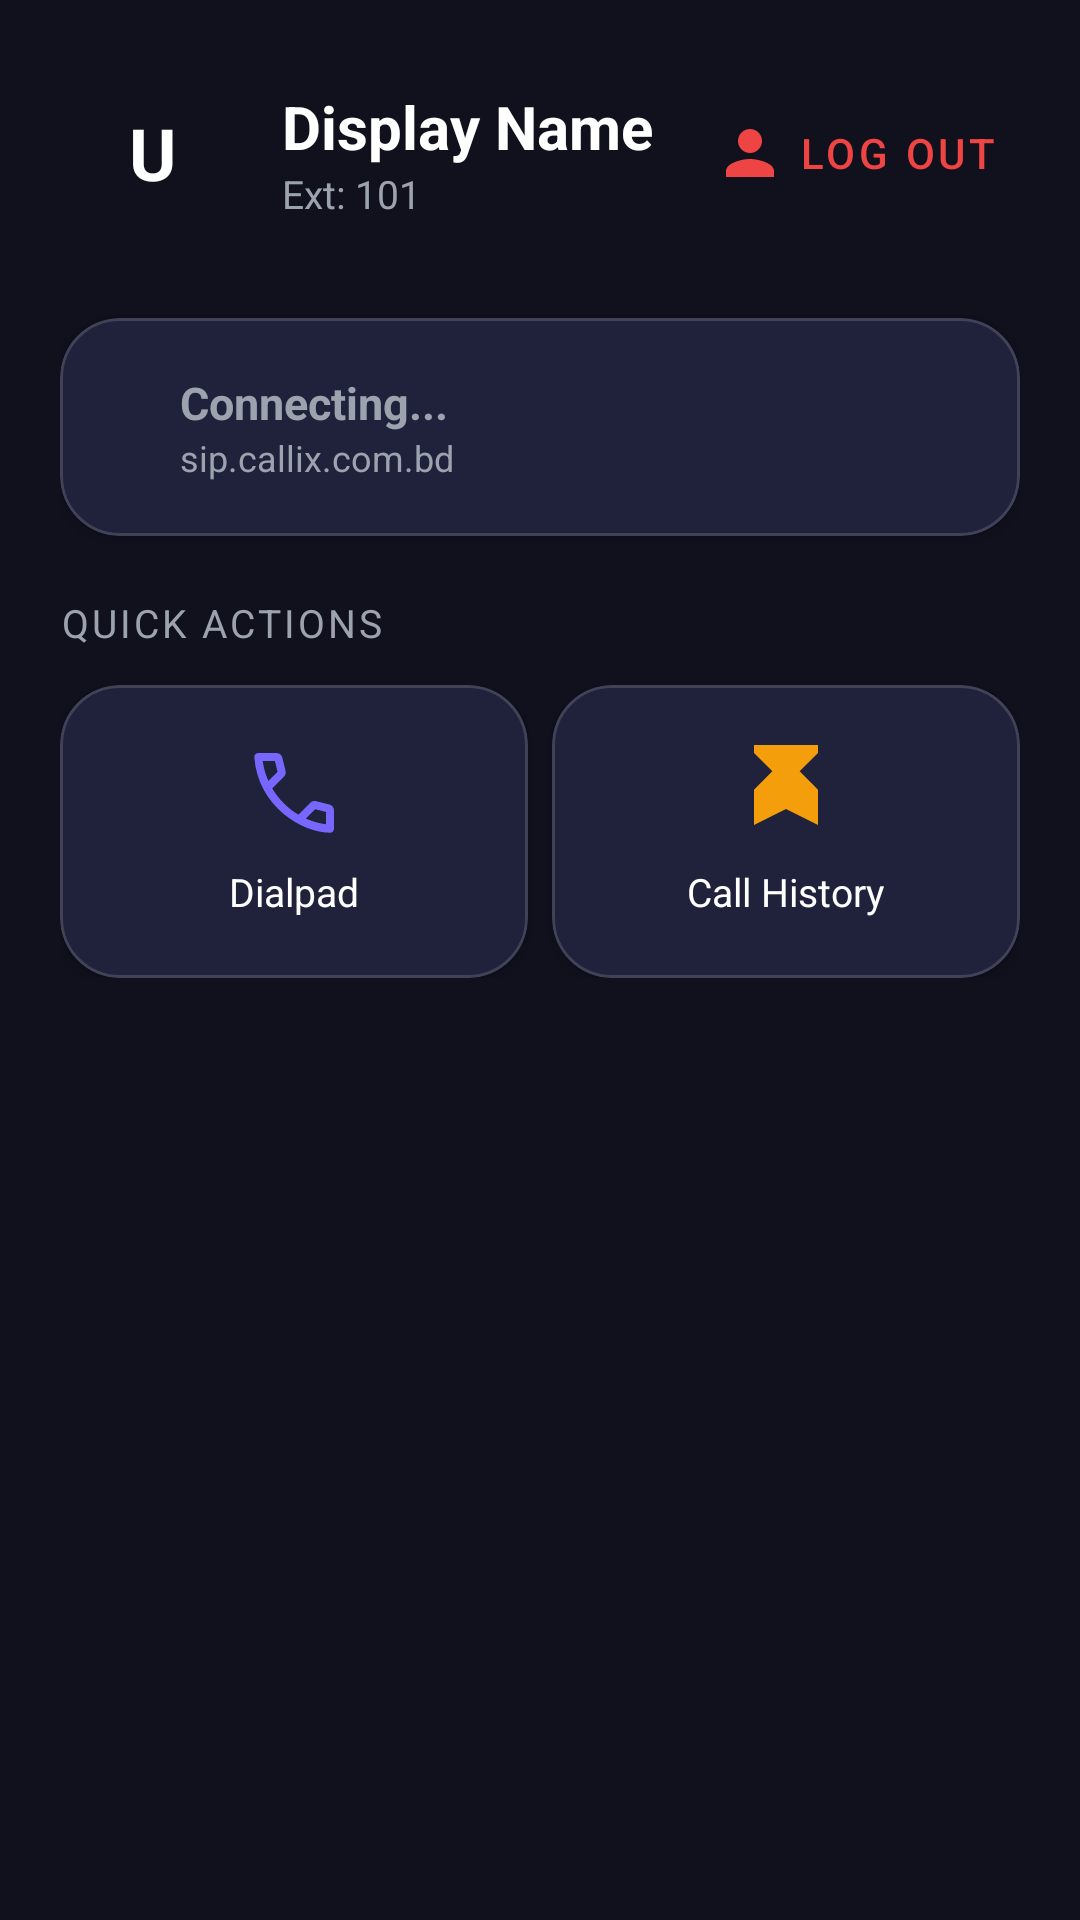

Screen size 1080*1920. Icon name, then its center in pixels as point (x, y):
call answer: point (294, 793)
